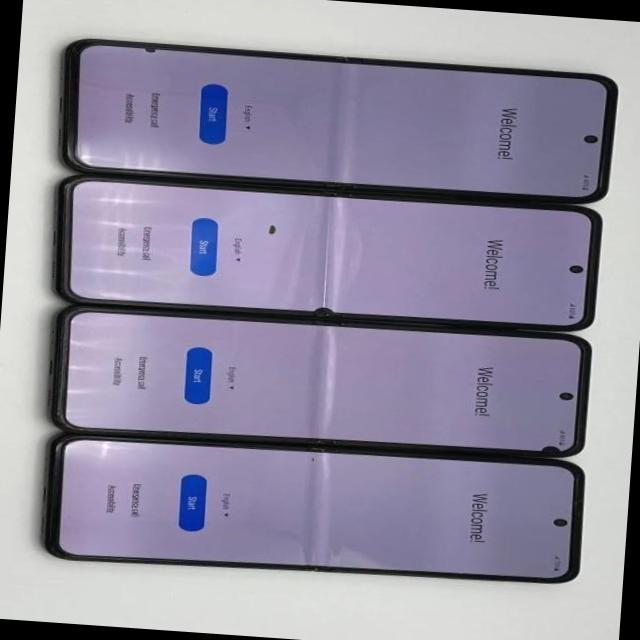dead pixel: (524, 434, 572, 465), (302, 296, 344, 330), (130, 33, 168, 66), (252, 218, 290, 242), (294, 452, 332, 469)
